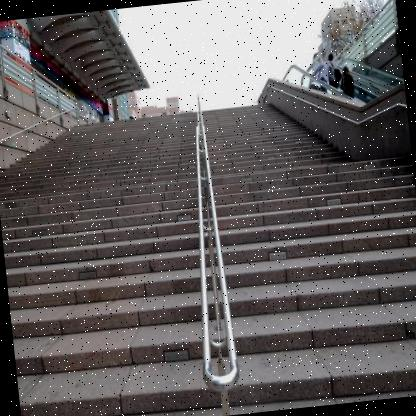stair: (0, 89, 229, 416), (198, 78, 384, 413)
